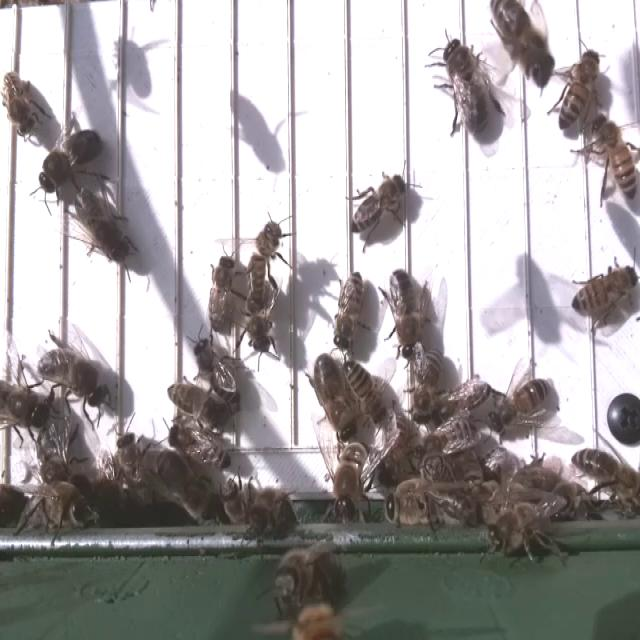Drone: (440, 31, 492, 140), (34, 339, 109, 409), (73, 180, 134, 266), (36, 126, 105, 196), (312, 347, 358, 444), (387, 264, 421, 363)
Worker: (590, 115, 640, 206), (346, 170, 409, 238), (192, 332, 246, 411), (555, 47, 601, 136), (487, 377, 555, 436), (570, 262, 640, 318), (245, 216, 283, 308), (342, 356, 390, 426), (166, 379, 227, 432), (332, 270, 366, 352), (0, 70, 40, 138), (413, 346, 445, 426), (208, 253, 238, 334)
